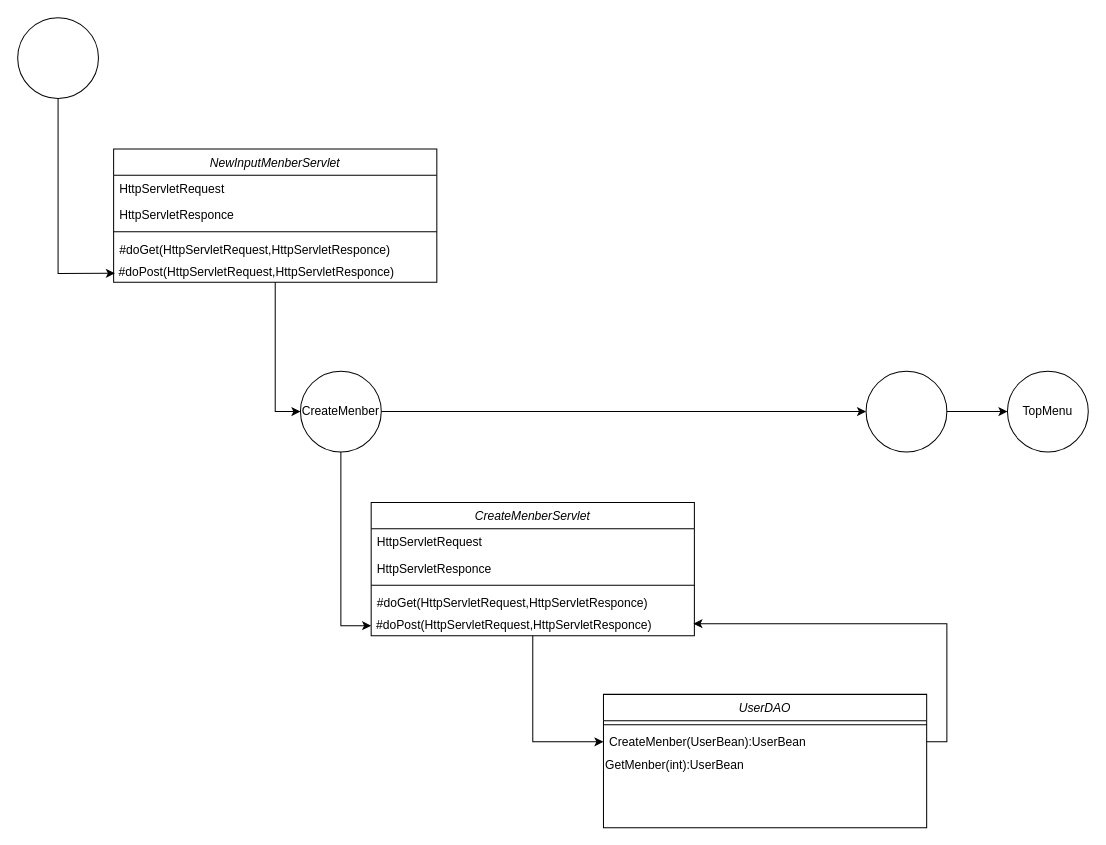
Image size: 1106x845. Some labels were removed from this diagram. The shapes that lost their labels are listed below. From the top down, each one's centre as x and y in pixels, then its label:
point (57, 57): NewMenber
point (906, 411): NewMenber Conf
